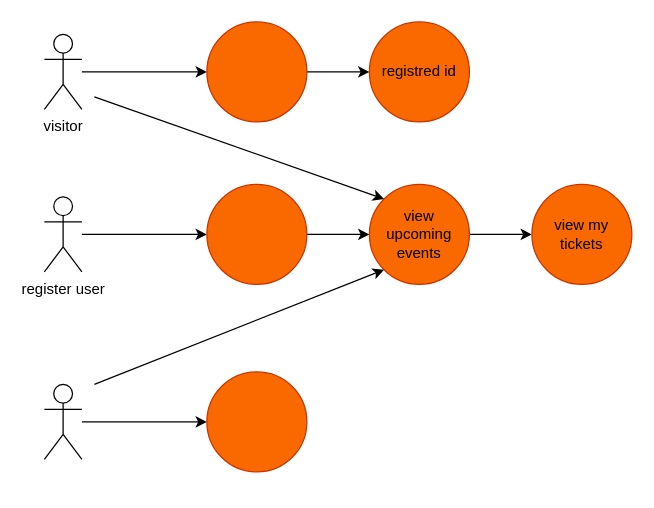
The diagram is 654 pixels wide and 508 high, and some of its shapes have lost their labels. The centre of each missing label's shape, as x and y in pixels:
"admin" goes at [62,421].
"login" goes at [256,71].
"Ticket bookinfg and payment" goes at [256,233].
